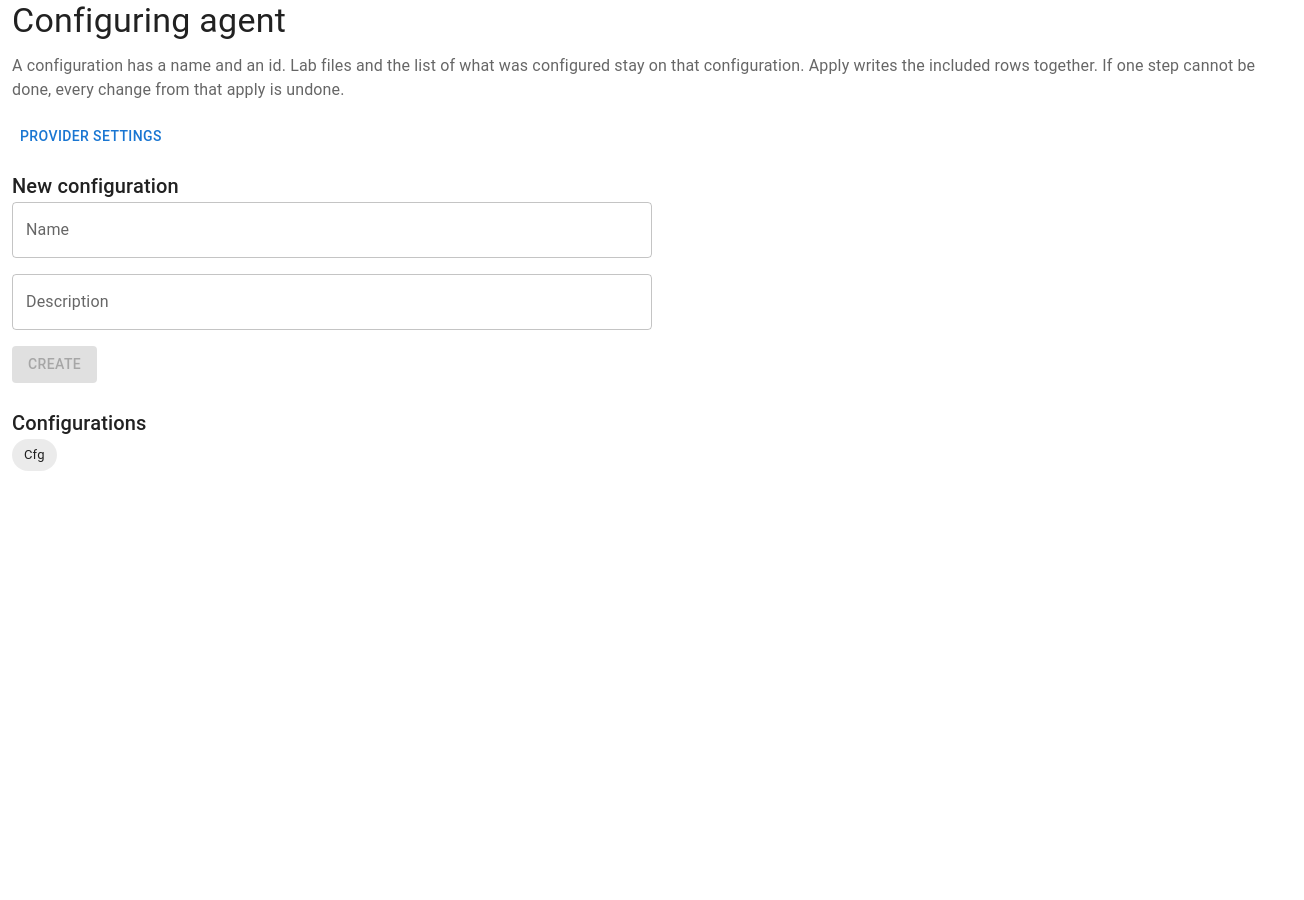
Scenario: one change set with include checkboxes; no Accept/Skip; greyed rows say what they need
The image size is (1304, 900).
Click the button "Cfg": [34, 455] box [12, 439, 57, 471]
(page scrolled)
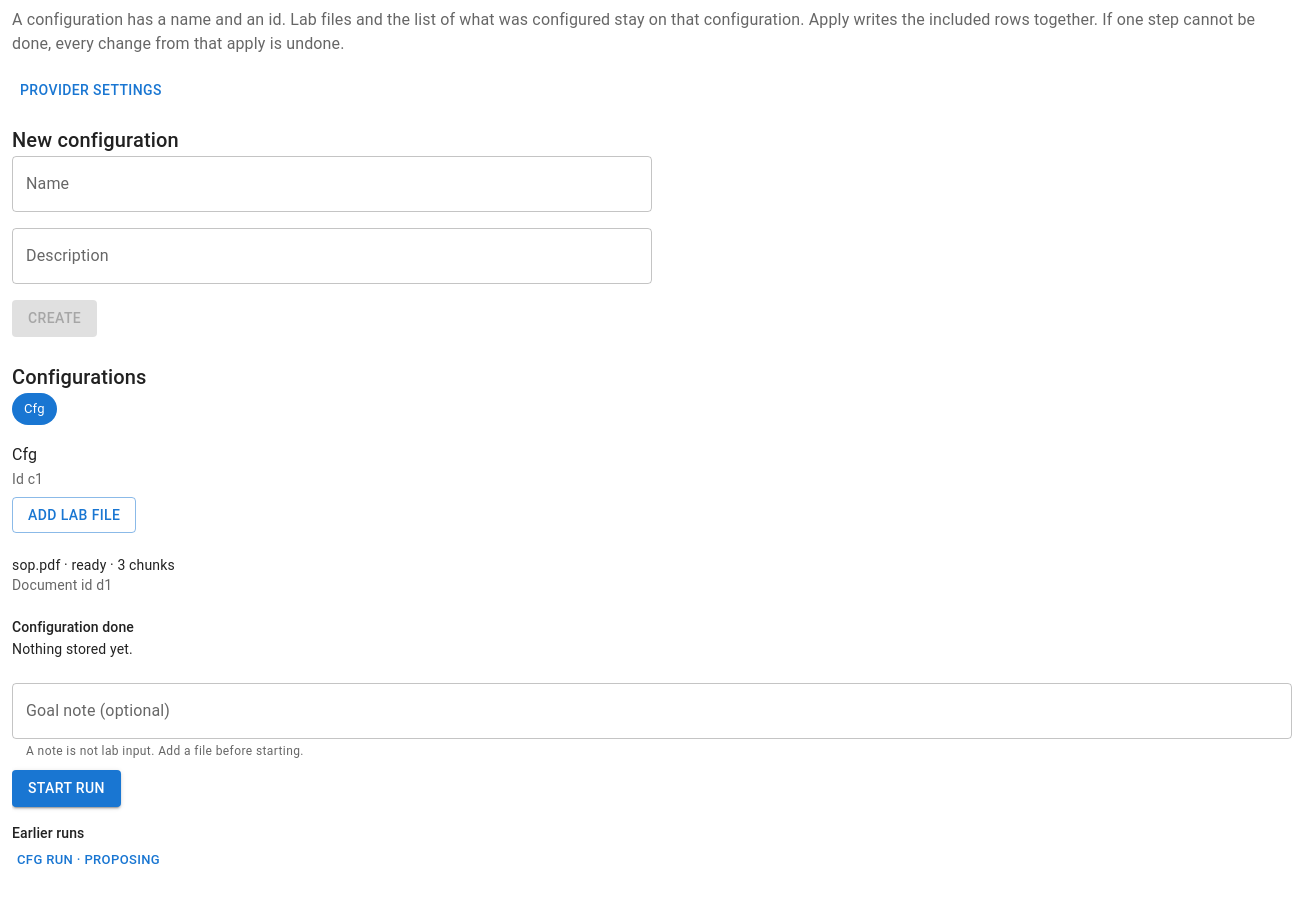
Click the button "Cfg run · proposing": [89, 860] box [12, 845, 165, 876]
(page scrolled)
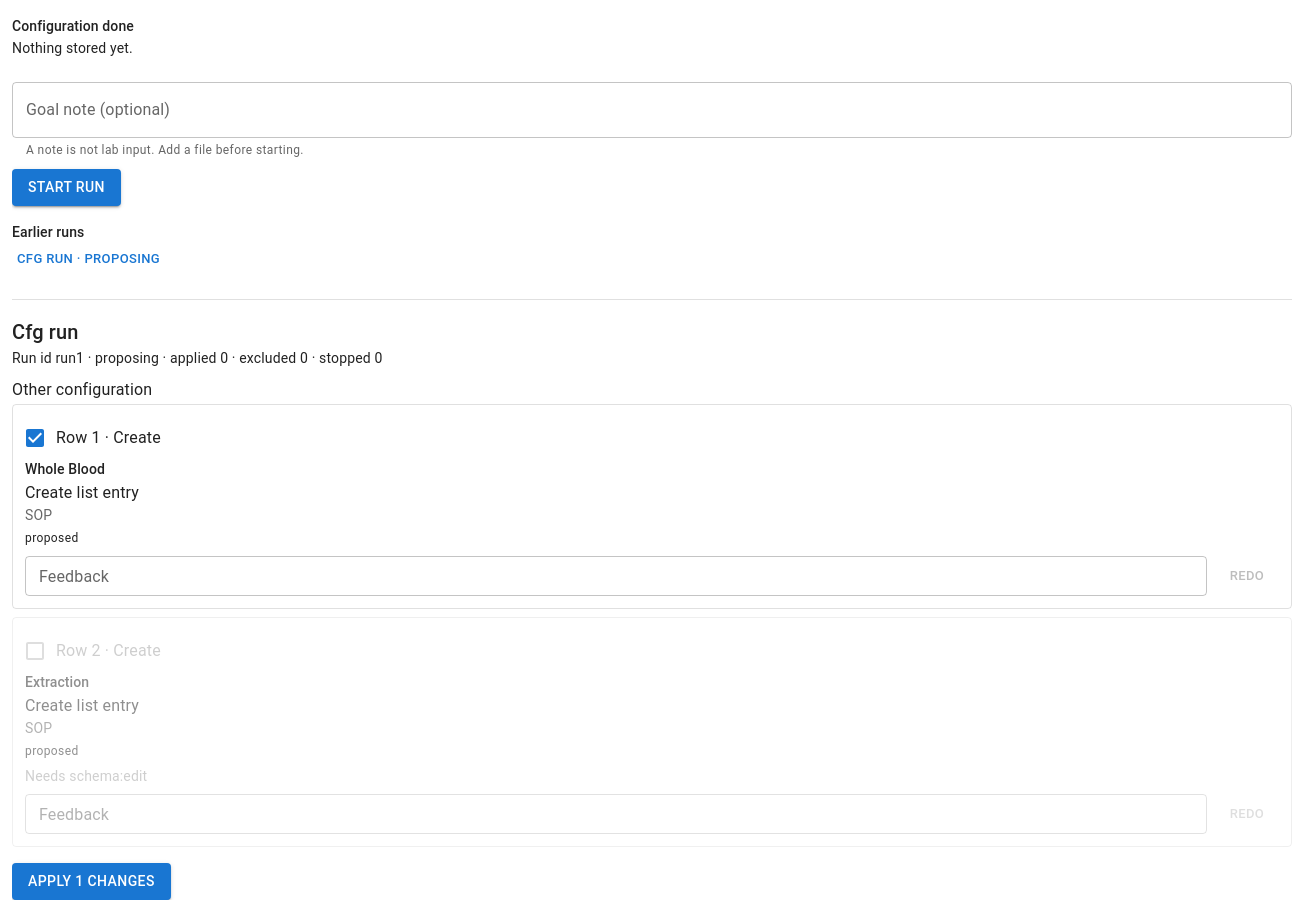
Result: the text "Run id run1 · proposing · applied 0 · excluded 0 · stopped 0" is shown at [12, 350, 382, 366]
Result: the text "Needs schema:edit" is shown at [25, 768, 147, 784]
Result: the checkbox named "Include Create Extraction" is disabled at [23, 639, 161, 663]
